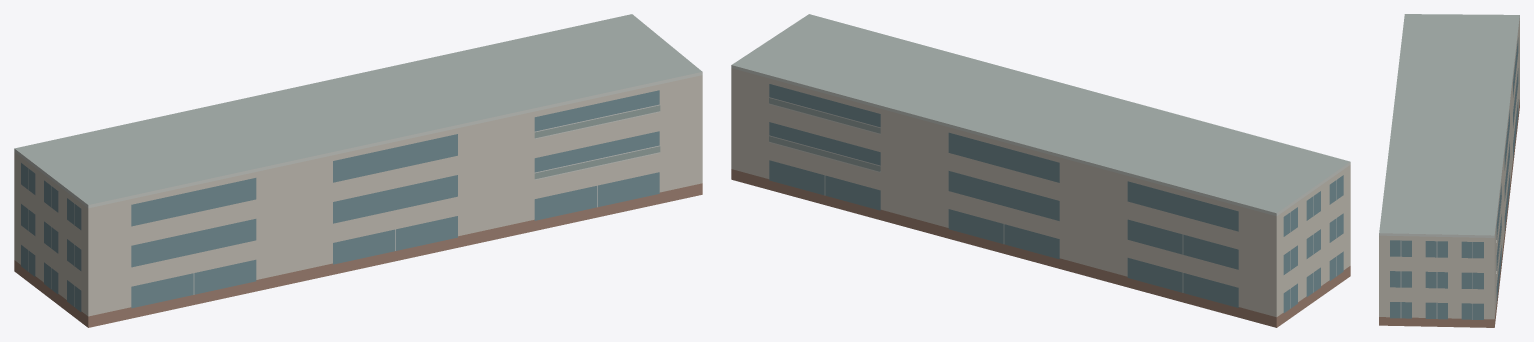
File: survey-upis-32576302.glb
3 renders of one model, left to right at view 1: azimuth 30°, elevation 25°; view 2: azimuth 150°, elevation 25°; view 3: azimuth 270°, elevation 25°, orthographic. The views are drawn at different scales.
Visible parts, largest first — view 1: survey-upis-32576302.tmp; view 2: survey-upis-32576302.tmp; view 3: survey-upis-32576302.tmp.
Part boxes in pixels (<box>): survey-upis-32576302.tmp: <box>14,14,702,327</box>; survey-upis-32576302.tmp: <box>731,14,1350,327</box>; survey-upis-32576302.tmp: <box>1379,14,1519,327</box>.
Size of the model in its own units: 47.06 by 9.15 by 12.64.
